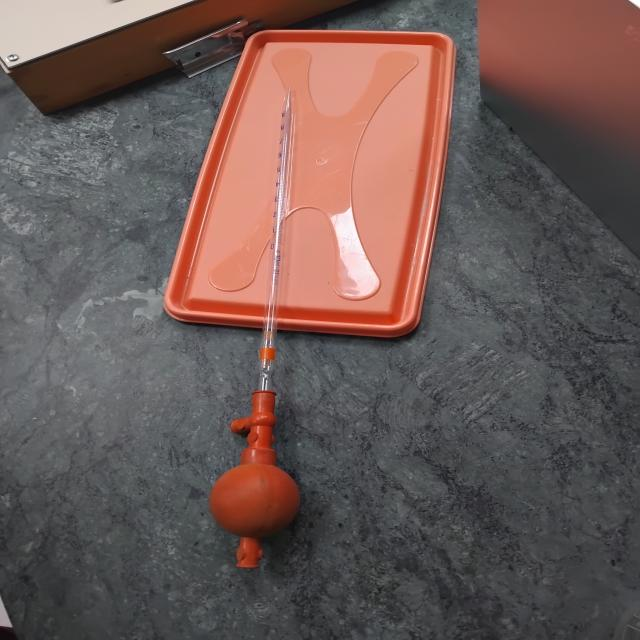Volumetric_Pipet: (194, 82, 325, 591)
